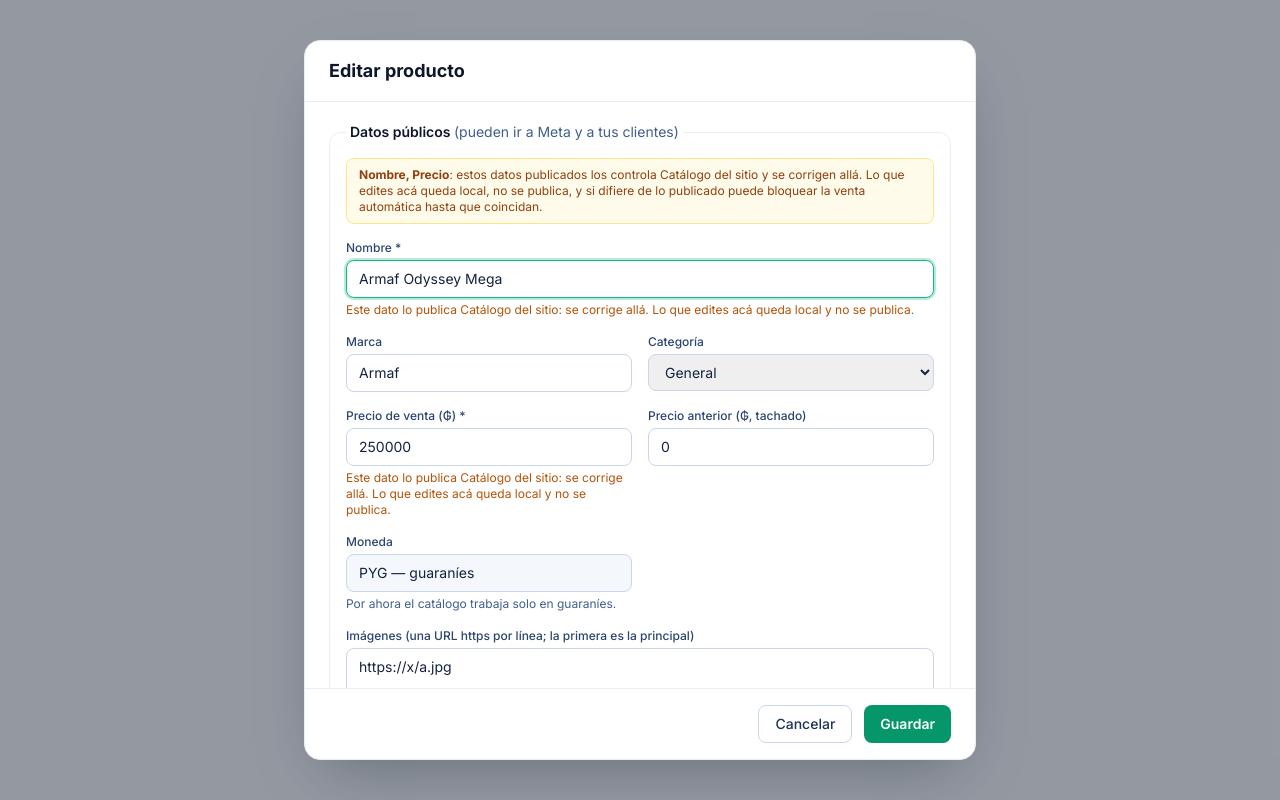
Scenario: confirmación explícita al editar un campo gobernado › cambiar el precio NO guarda en silencio: confirma, y «Volver» no guarda nada
Replace the text in the number field labelled "Precio de venta (₲) *" with "300000": {"x": 489, "y": 447} [346,428,632,466]
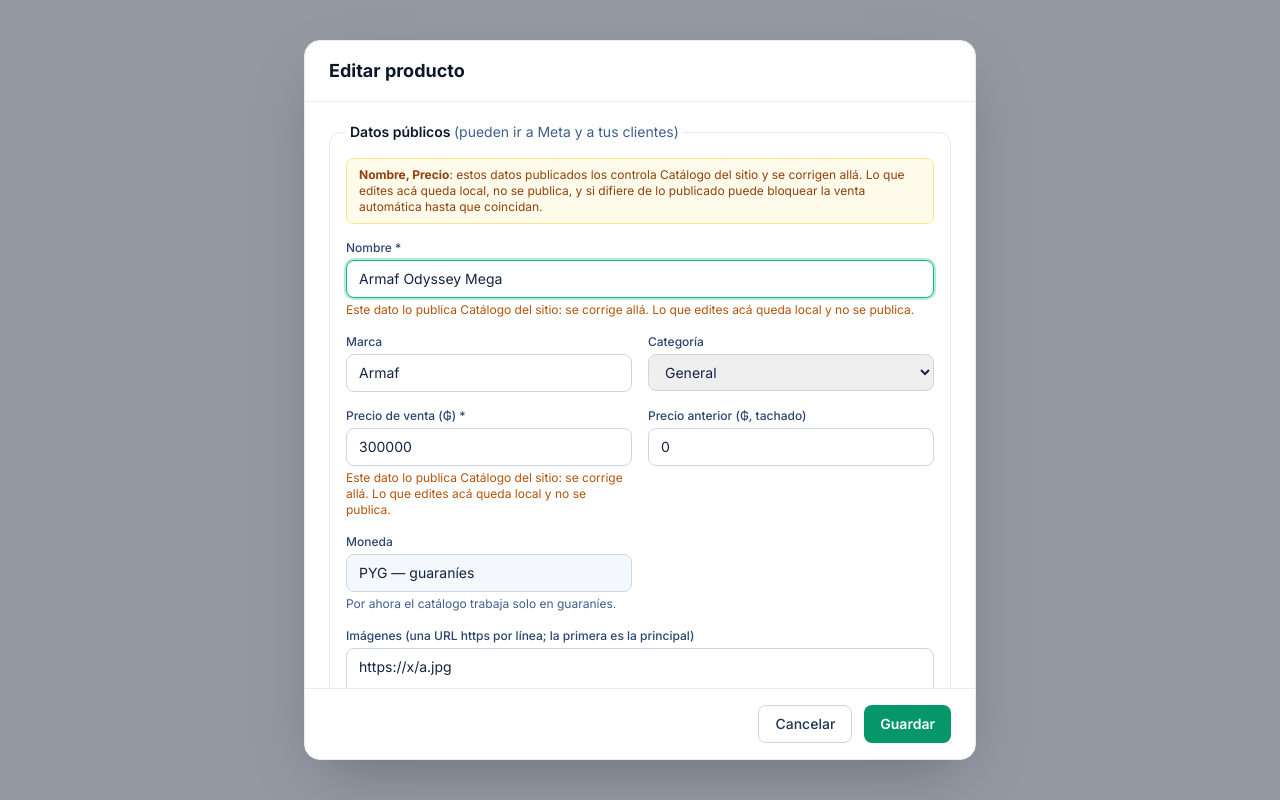
Submit the dialog, box [304,40,976,760]
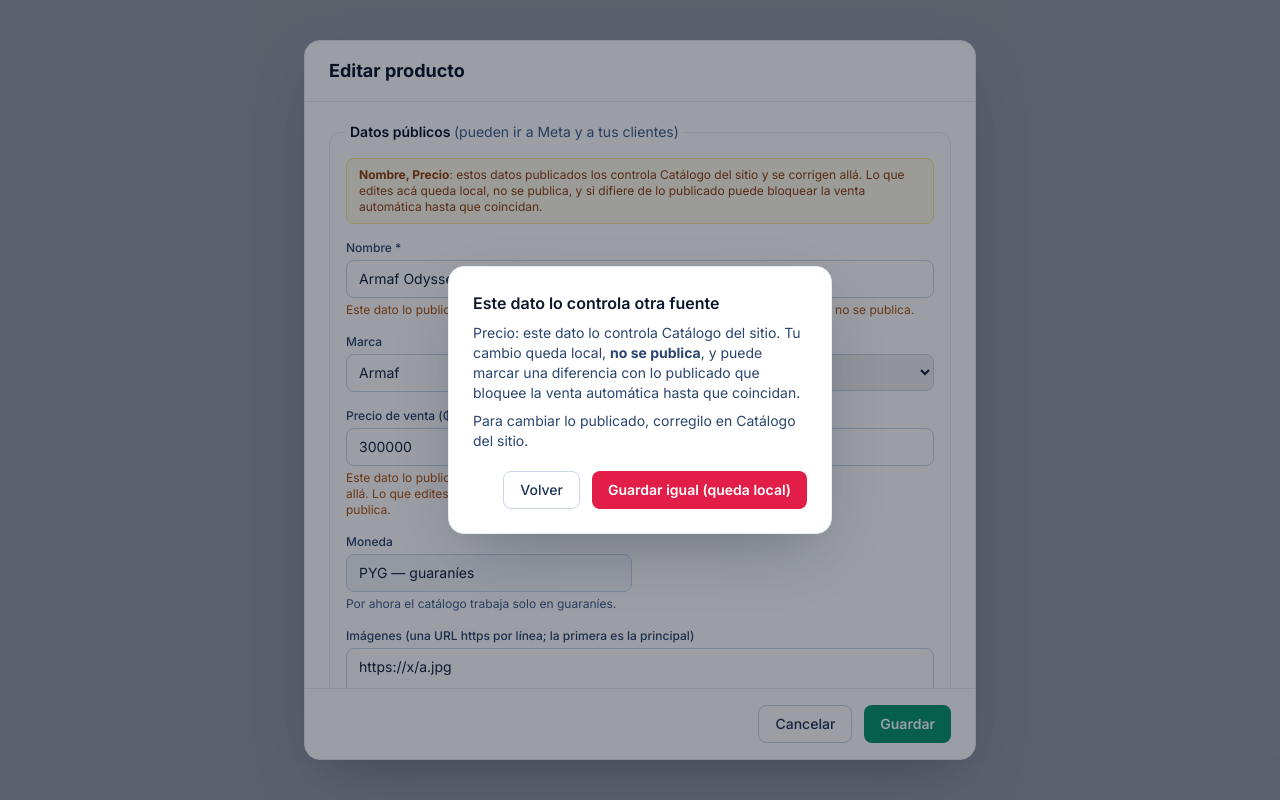
Now the dialog "Este dato lo controla otra fuente" shows "Precio", box [473,324,515,341]
Now the dialog "Este dato lo controla otra fuente" shows "tu cambio queda local", box [473,324,801,361]
Now the dialog "Este dato lo controla otra fuente" shows "no se publica", box [610,344,701,361]
Click the button "Volver": {"x": 542, "y": 490} [503,471,580,509]
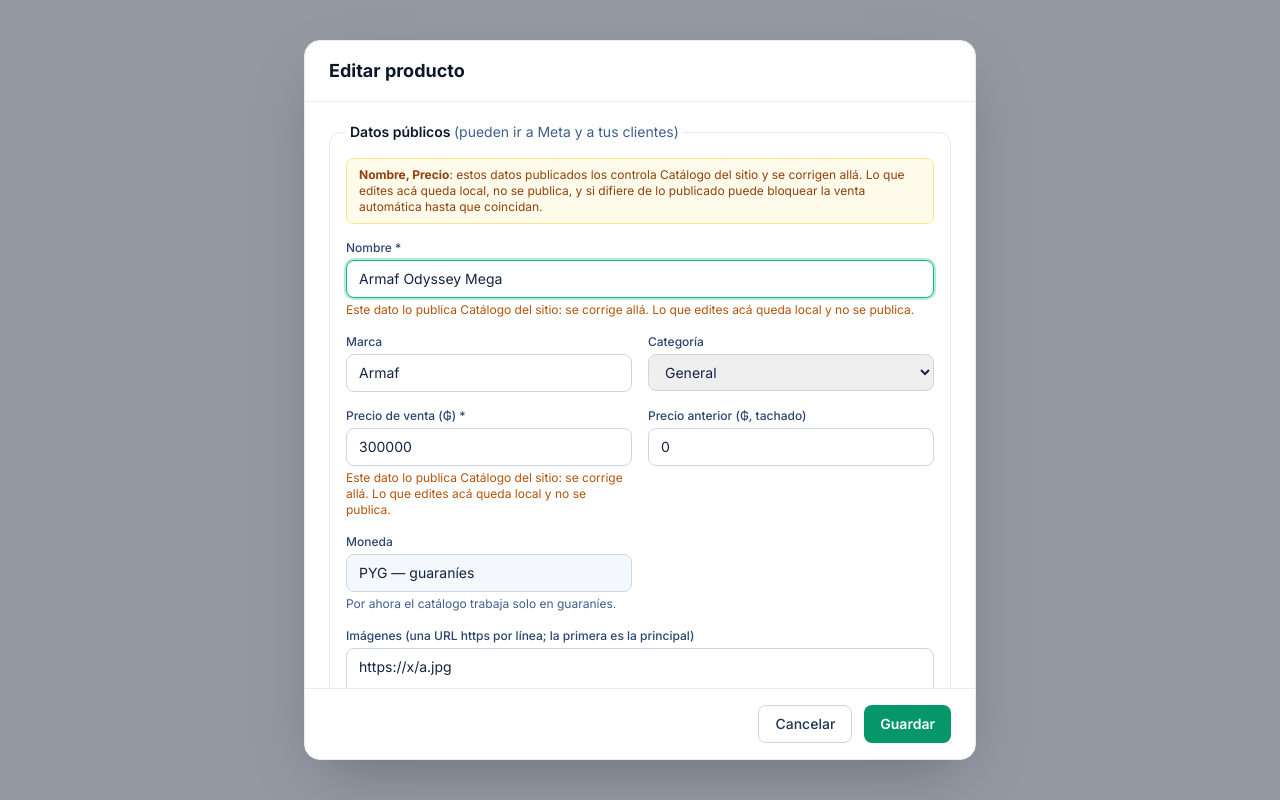
Expected: the dialog "Editar producto" is shown, [304,40,976,760]
Now the heading "Este dato lo controla otra fuente" is gone
